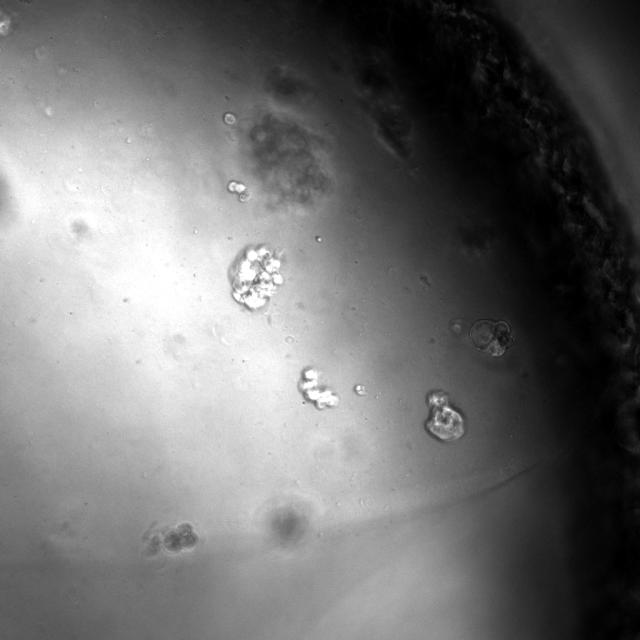organoid: (247, 113, 331, 205), (229, 244, 283, 311), (425, 390, 464, 441), (143, 522, 198, 557), (299, 368, 339, 409), (469, 319, 513, 356), (228, 180, 251, 202), (223, 112, 236, 123), (354, 385, 367, 394)
